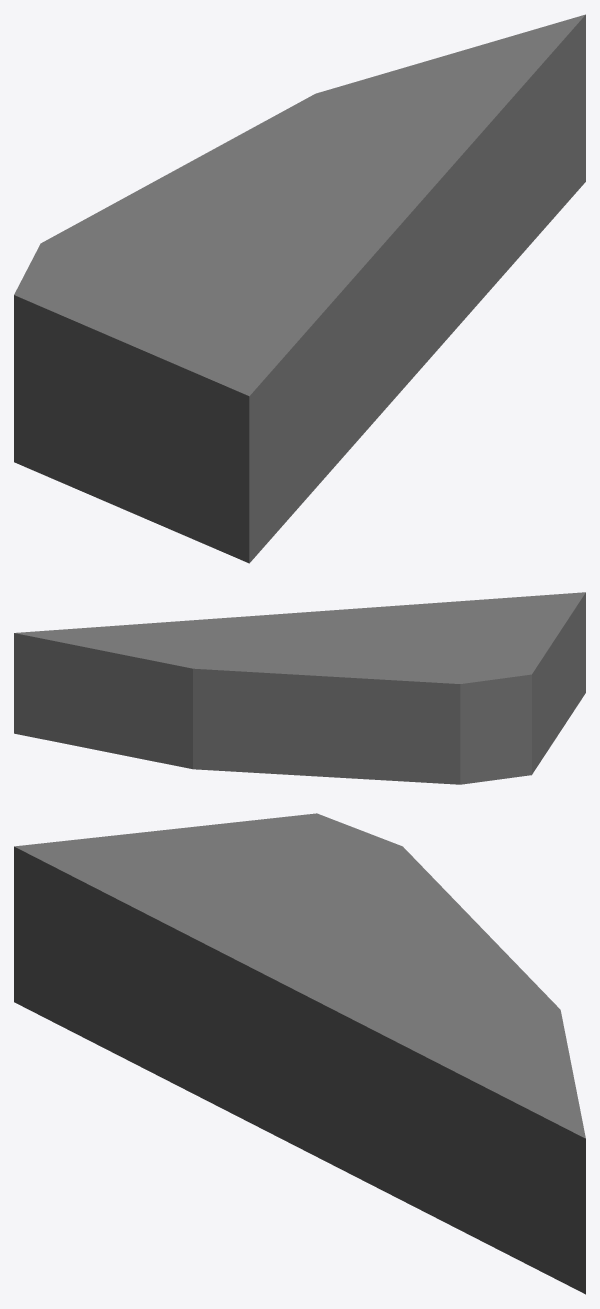
File: base_destroyed_8.glb
3 views of the same model, one above another, from view 1: azimuth 30°, elevation 25°; view 2: azimuth 150°, elevation 25°; view 3: azimuth 270°, elevation 25° (orthographic). The views are drawn at different scales.
Visible parts, largest first — view 1: base_destroyed_8; view 2: base_destroyed_8; view 3: base_destroyed_8.
Boxes of the visible parts, bbox=[...] form: base_destroyed_8: bbox=[14, 14, 585, 563]; base_destroyed_8: bbox=[14, 592, 585, 784]; base_destroyed_8: bbox=[14, 813, 585, 1294].
Bounding box in the file's own units: 0.8965 × 0.2 × 0.6658.
Materials: 1 (1 with a texture image).
